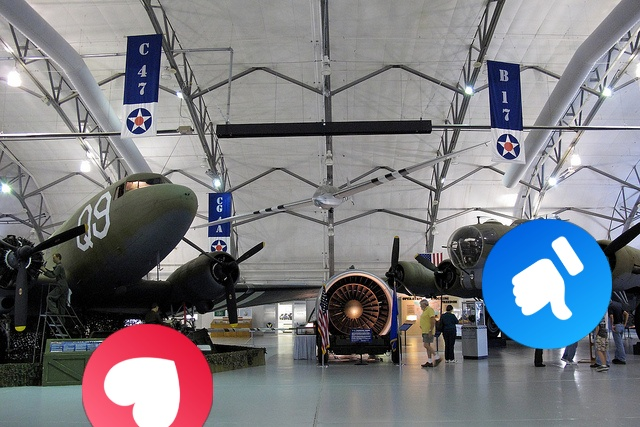like: (482, 219, 612, 349)
love: (82, 324, 213, 427)
